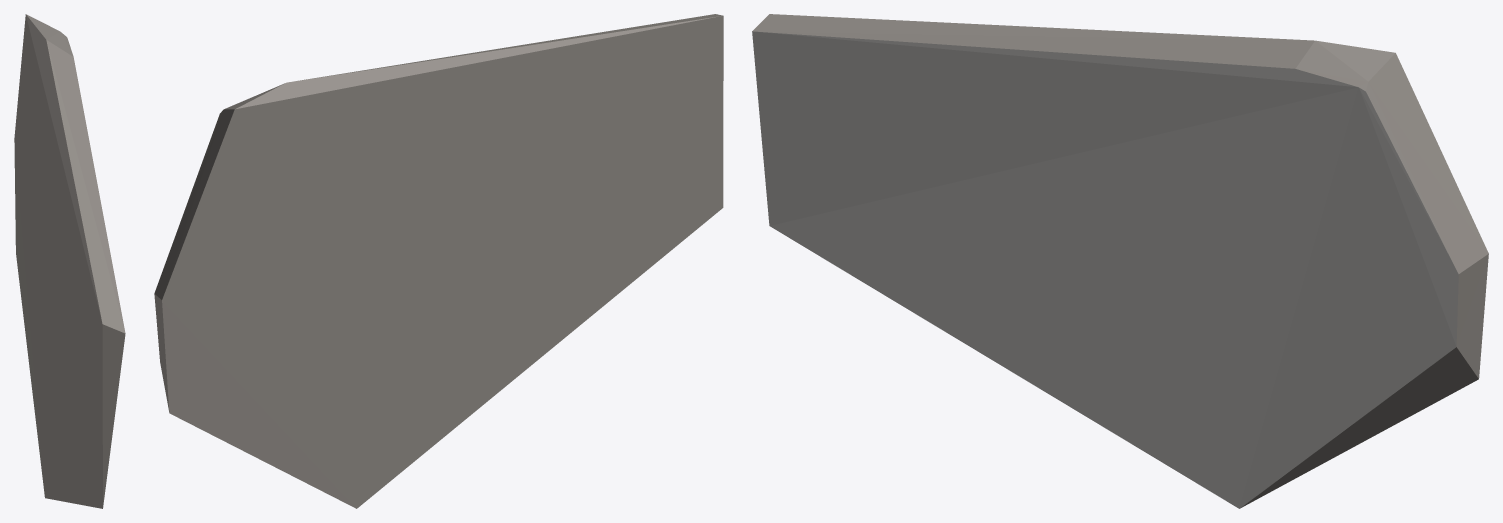
Rendered from stone-shard.glb.
3 views of the same model, side by side, from view 1: azimuth 30°, elevation 25°; view 2: azimuth 150°, elevation 25°; view 3: azimuth 270°, elevation 25° (orthographic). The views are drawn at different scales.
Visible parts, largest first — view 1: Icosphere_cell.041; view 2: Icosphere_cell.041; view 3: Icosphere_cell.041.
Part boxes in pixels (x1,y1,x2,y2): Icosphere_cell.041: (14,14,125,508); Icosphere_cell.041: (154,14,723,508); Icosphere_cell.041: (752,14,1488,508).
Size of the model in its own units: 0.8145 by 1.34 by 1.84.
1 material, 1 textured.
